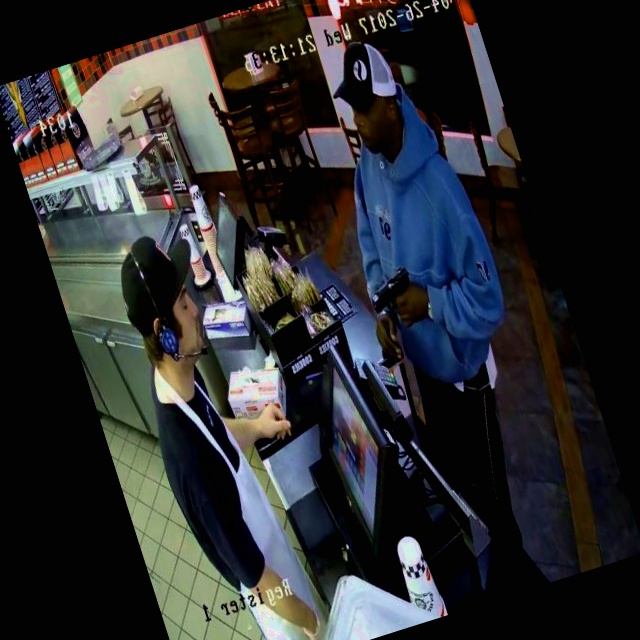gun: (351, 247, 434, 335)
